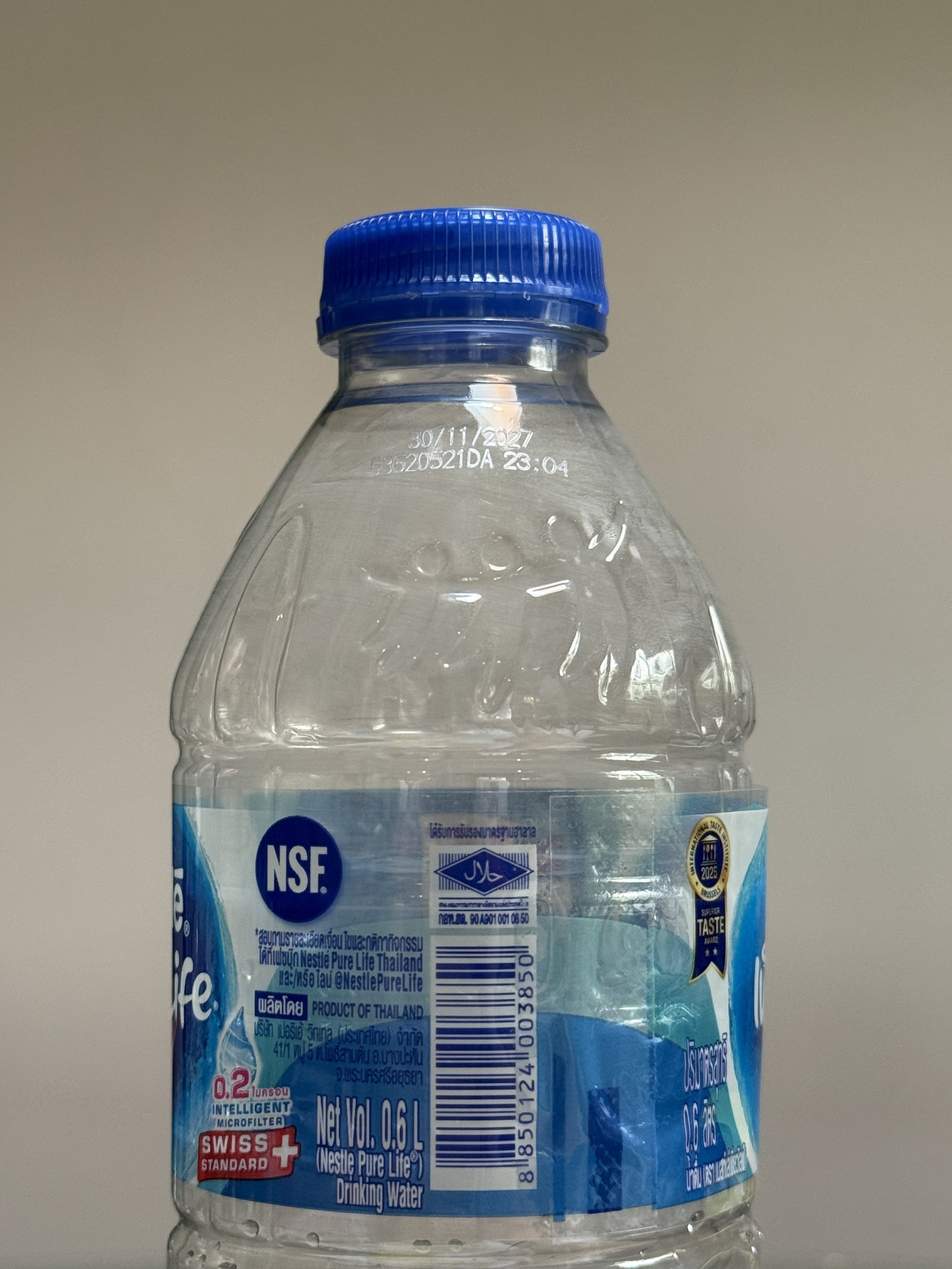closed_cap: (313, 203, 612, 353)
